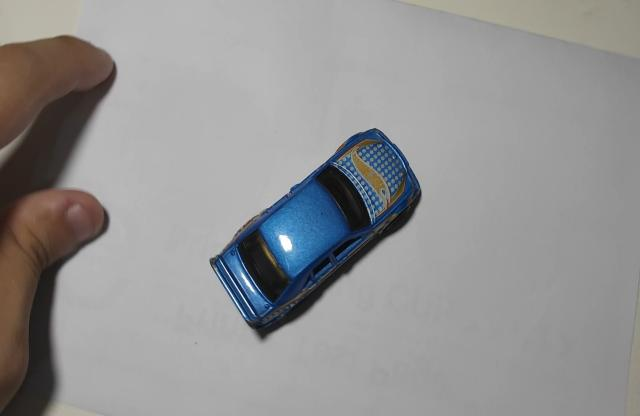04_MERZEDES: (208, 129, 423, 342)
